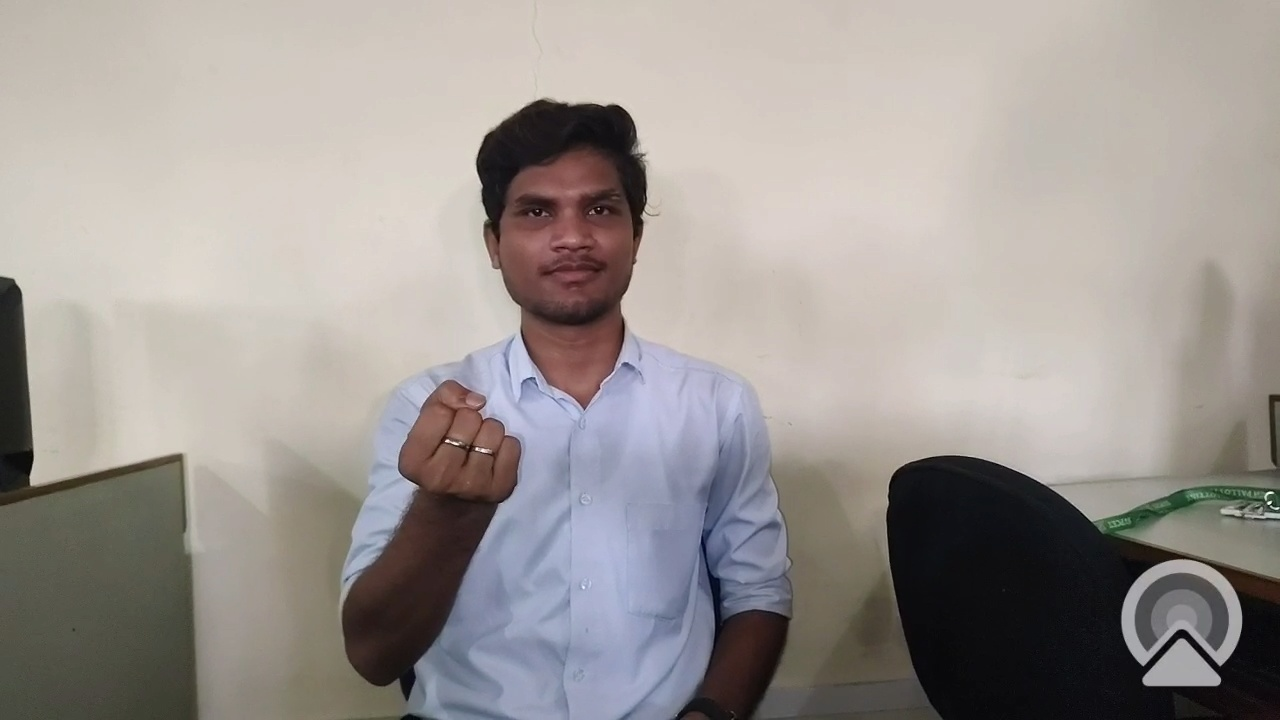Yes: (389, 350, 546, 578)
